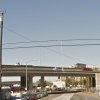Bridge: (4, 54, 98, 84)
